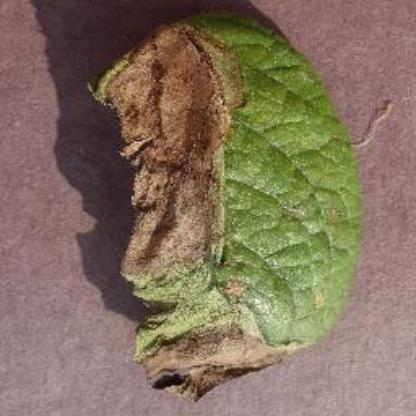Late-Blight: (70, 5, 384, 406)
